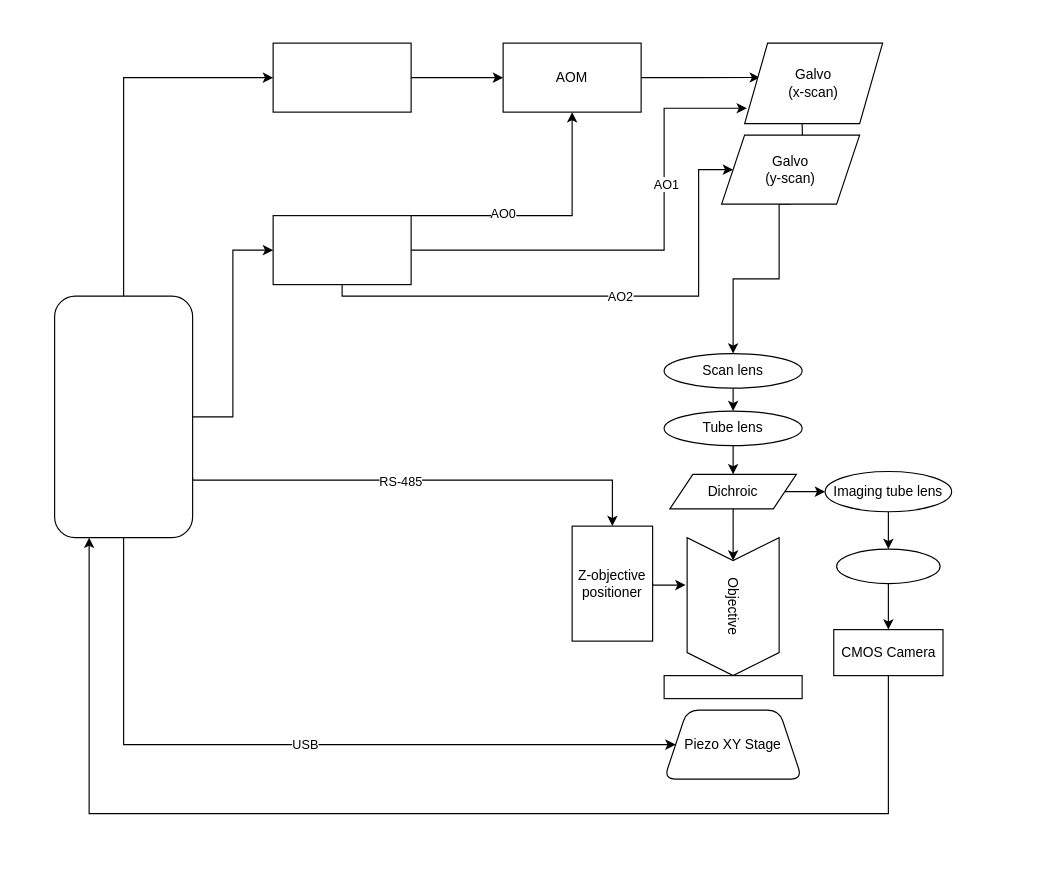
This 1064x880 diagram has some shape labels left out. The shapes that lost their labels are listed below. From the top down, each one's centre as x and y in pixels, then its label:
At point (341, 77): "Femtosecond Laser".
At point (341, 249): "NiDAQ PCIe-6353".
At point (123, 416): "PC/Software".
At point (887, 566): "Demag lens".
At point (732, 686): "Sample".
